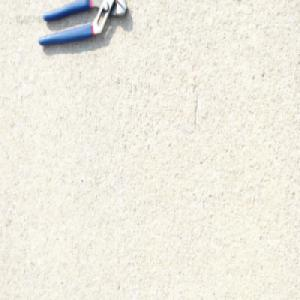Pliers: (37, 0, 128, 48)
